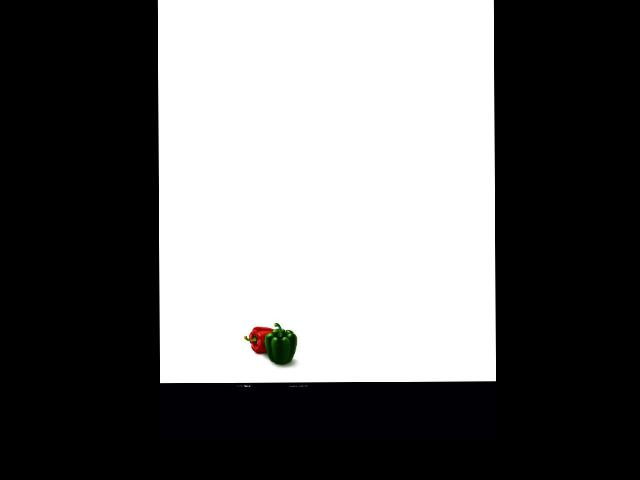bell_pepper: (244, 323, 274, 352)
